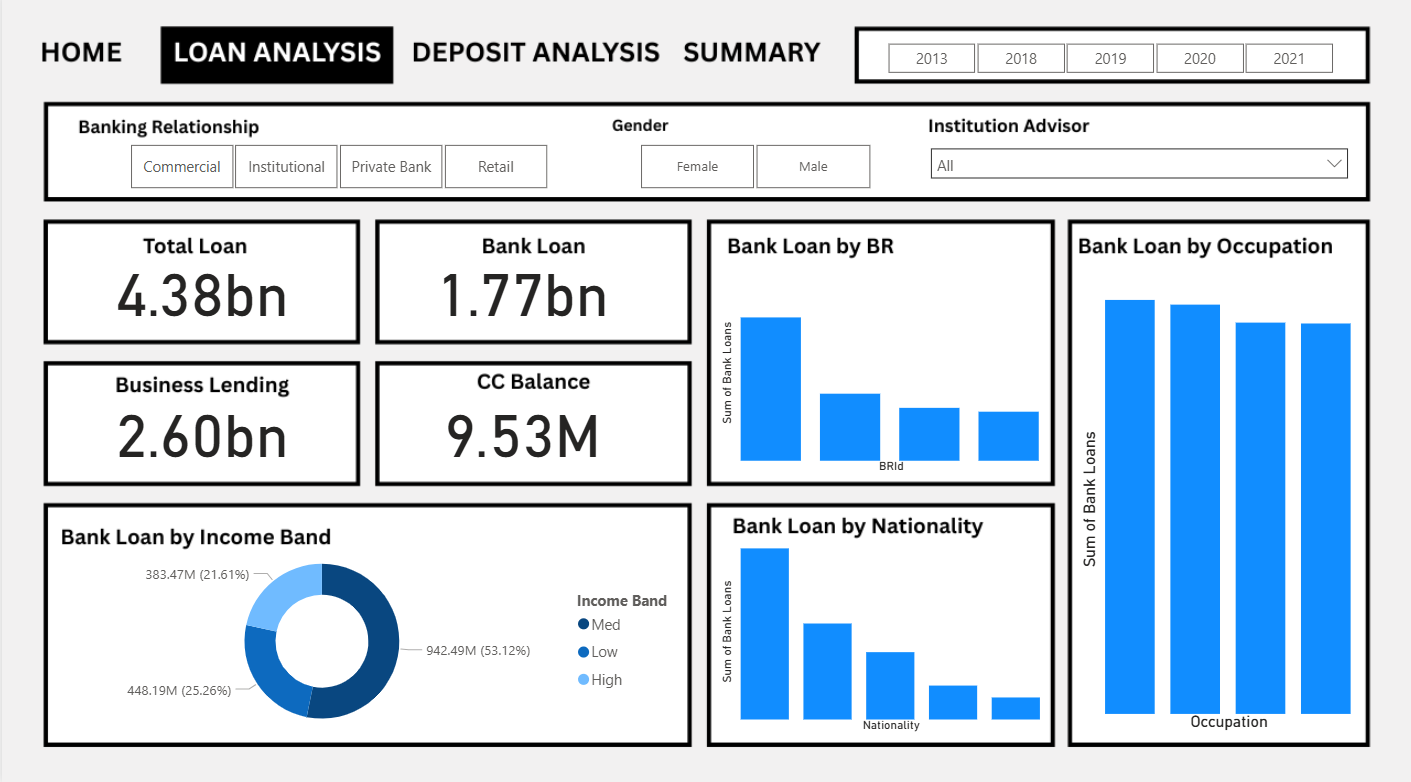

What the dashboard file says about the page in this screenshot:
{"tool":"powerbi","page":{"name":"Loan Analysis","canvas":[1280,720],"ordinal":1},"visuals":[{"type":"actionButton","box":[22.1,37.2,100,39.5],"z":0},{"type":"actionButton","box":[148.7,12.8,192.3,65.4],"z":1000},{"type":"actionButton","box":[351.3,37.2,241,32.1],"z":2000},{"type":"actionButton","box":[616.3,37.2,131.4,40.7],"z":3000},{"type":"card","fields":{"Values":["banking_case customer.Total Loan"]},"box":[72.1,244.2,218.6,69.8],"z":4000},{"type":"card","fields":{"Values":["Sum(banking_case customer.Bank Loans)"]},"box":[362.8,244.2,218.6,69.8],"z":5000},{"type":"card","fields":{"Values":["Sum(banking_case customer.Business Lending)"]},"box":[72.1,372.1,218.6,69.8],"z":6000},{"type":"card","fields":{"Values":["Sum(banking_case customer.Credit Card Balance)"]},"box":[362.8,372.1,218.6,69.8],"z":7000},{"type":"donutChart","fields":{"Category":["banking_case customer.Income Band"],"Y":["Sum(banking_case customer.Bank Loans)"]},"box":[54.7,494.2,572.1,189.5],"z":8000},{"type":"clusteredColumnChart","fields":{"Category":["banking_case customer.BRId"],"Y":["Sum(banking_case customer.Bank Loans)"]},"box":[647.7,252.3,301.2,189.5],"z":9000},{"type":"clusteredColumnChart","fields":{"Category":["banking_case customer.Nationality"],"Y":["Sum(banking_case customer.Bank Loans)"]},"box":[647.7,486,301.2,189.5],"z":10000},{"type":"clusteredColumnChart","fields":{"Category":["banking_case customer.Occupation"],"Y":["Sum(banking_case customer.Bank Loans)"]},"box":[974.4,252.3,257,423.3],"z":11000},{"type":"slicer","fields":{"Values":["banking_case customer.BRId"]},"box":[90.7,131.4,427.9,53.5],"z":12000},{"type":"slicer","fields":{"Values":["banking_case customer.GenderId"]},"box":[553.5,131.4,258.1,53.5],"z":13000},{"type":"slicer","fields":{"Values":["banking_case customer.IAId"]},"box":[832.6,131.4,398.8,53.5],"z":14000},{"type":"slicer","fields":{"Values":["banking_case customer.Year of joining"]},"box":[777.9,39.5,453.5,38.4],"z":15000}]}

Visuals, with their boxes in screenshot pixels (x1, y1, x2, y2), scaled from the page's 1280x720 canvas onto the 1411x782 screenshot:
actionButton: {"x1": 24, "y1": 40, "x2": 135, "y2": 83}
actionButton: {"x1": 164, "y1": 14, "x2": 376, "y2": 85}
actionButton: {"x1": 387, "y1": 40, "x2": 653, "y2": 75}
actionButton: {"x1": 679, "y1": 40, "x2": 824, "y2": 85}
card - banking_case customer.Total Loan: {"x1": 79, "y1": 265, "x2": 320, "y2": 341}
card - Sum(banking_case customer.Bank Loans): {"x1": 400, "y1": 265, "x2": 641, "y2": 341}
card - Sum(banking_case customer.Business Lending): {"x1": 79, "y1": 404, "x2": 320, "y2": 480}
card - Sum(banking_case customer.Credit Card Balance): {"x1": 400, "y1": 404, "x2": 641, "y2": 480}
donutChart - banking_case customer.Income Band x Sum(banking_case customer.Bank Loans): {"x1": 60, "y1": 537, "x2": 691, "y2": 743}
clusteredColumnChart - banking_case customer.BRId x Sum(banking_case customer.Bank Loans): {"x1": 714, "y1": 274, "x2": 1046, "y2": 480}
clusteredColumnChart - banking_case customer.Nationality x Sum(banking_case customer.Bank Loans): {"x1": 714, "y1": 528, "x2": 1046, "y2": 734}
clusteredColumnChart - banking_case customer.Occupation x Sum(banking_case customer.Bank Loans): {"x1": 1074, "y1": 274, "x2": 1357, "y2": 734}
slicer - banking_case customer.BRId: {"x1": 100, "y1": 143, "x2": 572, "y2": 201}
slicer - banking_case customer.GenderId: {"x1": 610, "y1": 143, "x2": 895, "y2": 201}
slicer - banking_case customer.IAId: {"x1": 918, "y1": 143, "x2": 1357, "y2": 201}
slicer - banking_case customer.Year of joining: {"x1": 858, "y1": 43, "x2": 1357, "y2": 85}
